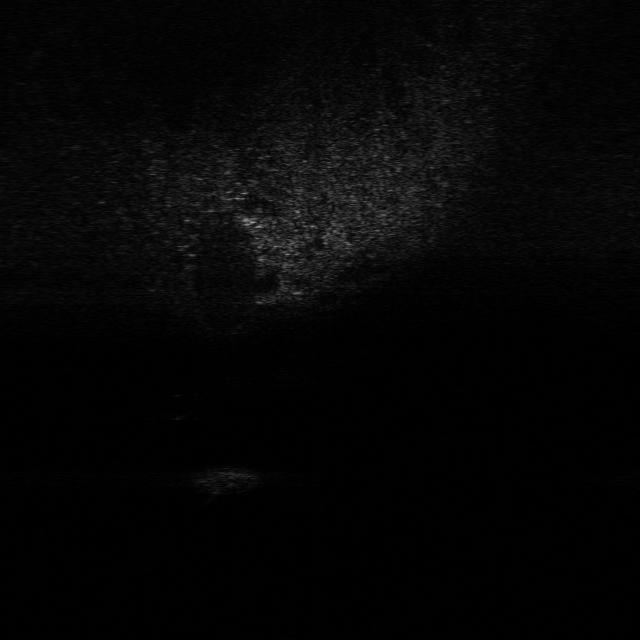circle cage: (177, 464, 267, 499)
